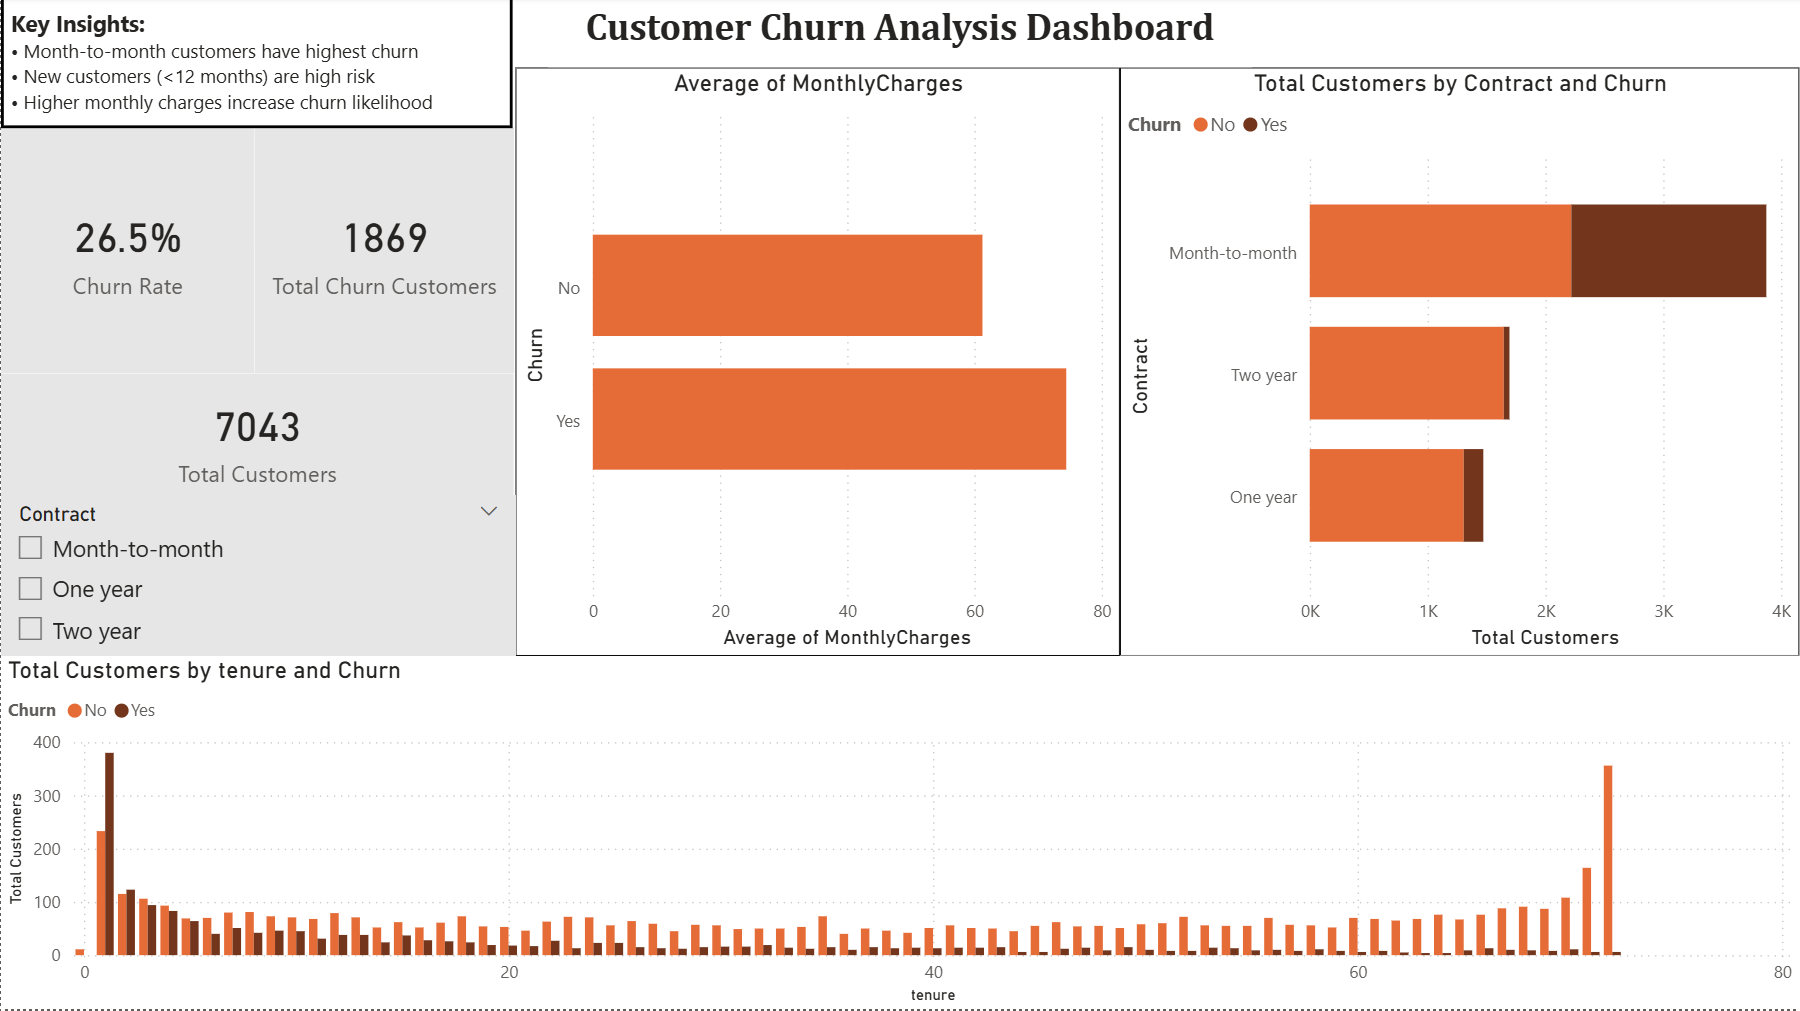

This screenshot's page, from the dashboard's own definition file:
{"tool":"powerbi","page":{"name":"Page 1","canvas":[1280,720],"ordinal":0},"visuals":[{"type":"card","fields":{"Values":["CountNonNull(customers.customerID)"]},"box":[0,267.8,364.4,92.2],"z":0},{"type":"card","fields":{"Values":["customers.Churn Rate"]},"box":[0,93.3,180,174.4],"z":1000},{"type":"barChart","fields":{"Category":["customers.Contract"],"Series":["customers.Churn"],"Y":["CountNonNull(customers.customerID)"]},"box":[796.7,50,483.3,418.9],"z":2000},{"type":"clusteredColumnChart","fields":{"Category":["customers.tenure"],"Series":["customers.Churn"],"Y":["CountNonNull(customers.customerID)"]},"box":[0,468.5,1279.6,251.9],"z":3000},{"type":"barChart","title":"Average of MonthlyCharges","fields":{"Category":["customers.Churn"],"Y":["Avg(customers.MonthlyCharges)"]},"box":[366.2,50,430,418.8],"z":4000},{"type":"slicer","fields":{"Values":["customers.Contract"]},"box":[0,354.3,366.1,114.2],"z":5000},{"type":"card","fields":{"Values":["CountNonNull(customers.customerID)"]},"box":[180,93.3,184.4,174.4],"z":6000},{"type":"textbox","box":[390,0,500,50],"z":7000},{"type":"textbox","box":[0,0,364.3,93.6],"z":8000}]}

Visuals, with their boxes in screenshot pixels (x1, y1, x2, y2), scaled from the page's 1280x720 canvas onto the 1800x1011 screenshot:
card - CountNonNull(customers.customerID): (left=0, top=376, right=512, bottom=505)
card - customers.Churn Rate: (left=0, top=131, right=253, bottom=376)
barChart - customers.Contract x customers.Churn: (left=1120, top=70, right=1799, bottom=658)
clusteredColumnChart - customers.tenure x customers.Churn: (left=0, top=658, right=1799, bottom=1010)
"Average of MonthlyCharges" barChart: (left=515, top=70, right=1120, bottom=658)
slicer - customers.Contract: (left=0, top=497, right=515, bottom=658)
card - CountNonNull(customers.customerID): (left=253, top=131, right=512, bottom=376)
textbox: (left=548, top=0, right=1252, bottom=70)
textbox: (left=0, top=0, right=512, bottom=131)
